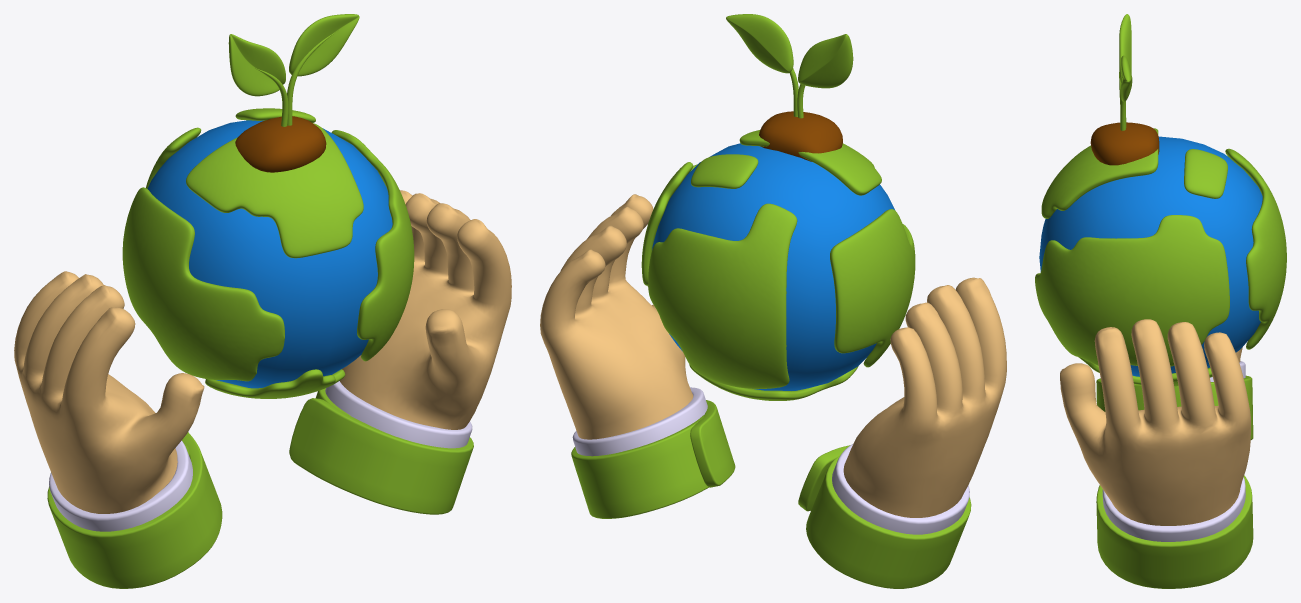
The model's file is SaveEarth2.gltf.
3 views of the same model, side by side, from view 1: azimuth 30°, elevation 25°; view 2: azimuth 150°, elevation 25°; view 3: azimuth 270°, elevation 25° (orthographic). The views are drawn at different scales.
Parts seen in each view (by area): view 1: Cube.010, Hand Left Main, Cube.009, Hand Right Main, Outer Sleeve Right, Outer Sleeve Left, Cube.011, Inner Sleeve Left, Inner Sleeve Right, Vert.014, Vert.013; view 2: Cube.010, Hand Left Main, Hand Right Main, Cube.009, Outer Sleeve Right, Outer Sleeve Left, Cube.011, Inner Sleeve Left, Inner Sleeve Right, Vert.013, Vert.014; view 3: Hand Right Main, Cube.010, Cube.009, Outer Sleeve Right, Inner Sleeve Right, Cube.011, Outer Sleeve Left, Vert.014, Vert.013.
Part boxes in pixels (bbox=[...]): Cube.010: bbox=[122, 108, 414, 398]; Hand Left Main: bbox=[14, 271, 204, 513]; Cube.009: bbox=[147, 120, 392, 388]; Hand Right Main: bbox=[340, 190, 511, 429]; Outer Sleeve Right: bbox=[289, 388, 473, 514]; Outer Sleeve Left: bbox=[47, 432, 222, 588]; Cube.011: bbox=[235, 116, 326, 172]; Inner Sleeve Left: bbox=[49, 440, 192, 531]; Inner Sleeve Right: bbox=[325, 381, 472, 448]; Vert.014: bbox=[228, 34, 285, 96]; Vert.013: bbox=[289, 14, 359, 76]; Cube.010: bbox=[641, 130, 915, 400]; Hand Left Main: bbox=[843, 277, 1006, 517]; Hand Right Main: bbox=[540, 194, 693, 439]; Cube.009: bbox=[652, 143, 894, 390]; Outer Sleeve Right: bbox=[571, 400, 735, 518]; Outer Sleeve Left: bbox=[798, 445, 971, 588]; Cube.011: bbox=[759, 111, 842, 161]; Inner Sleeve Left: bbox=[832, 444, 969, 534]; Inner Sleeve Right: bbox=[572, 387, 707, 456]; Vert.013: bbox=[726, 14, 793, 73]; Vert.014: bbox=[798, 34, 853, 88]; Hand Right Main: bbox=[1060, 319, 1250, 525]; Cube.010: bbox=[1035, 128, 1286, 386]; Cube.009: bbox=[1039, 136, 1262, 376]; Outer Sleeve Right: bbox=[1096, 475, 1253, 588]; Inner Sleeve Right: bbox=[1102, 477, 1245, 541]; Cube.011: bbox=[1090, 122, 1159, 165]; Outer Sleeve Left: bbox=[1096, 375, 1253, 439]; Vert.014: bbox=[1119, 14, 1131, 82]; Vert.013: bbox=[1121, 55, 1132, 101].
Bounding box in the file's own units: 3.72 × 4.25 × 2.05.
